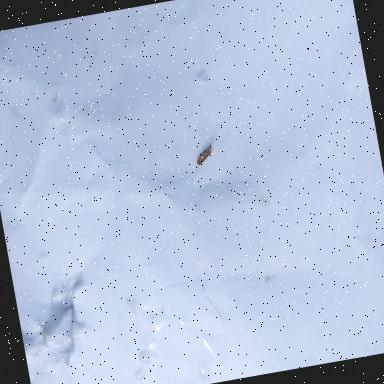pbw: (192, 141, 218, 167)
